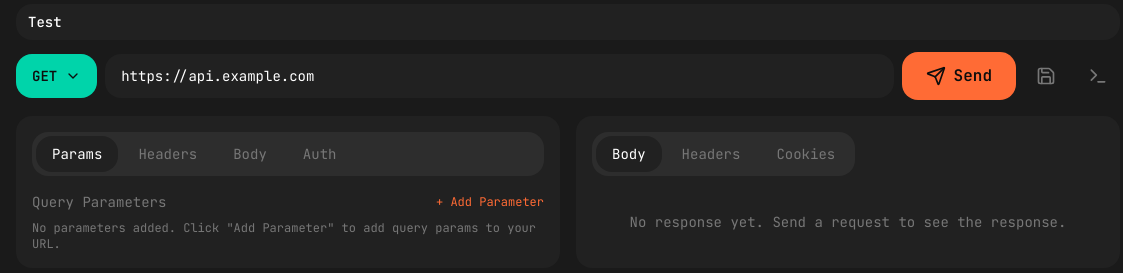
Test: RequestBuilder › can add query parameters
The width and height of the screenshot is (1123, 273).
// Click the first params button (request tab)
Click the button "params": [77, 154] box [36,136,118,172]
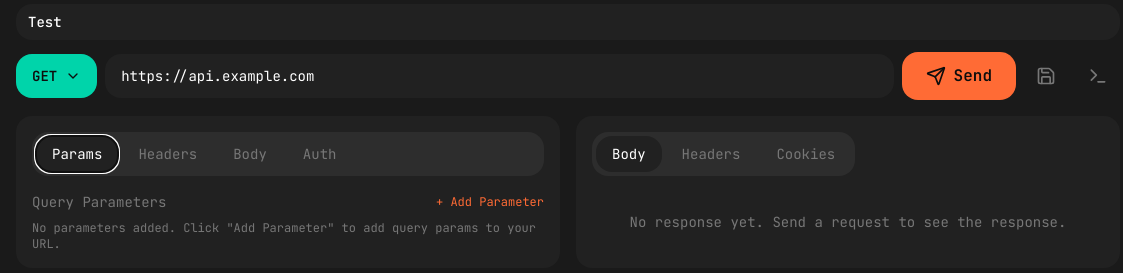
// Click add parameter button
Click the button "+ Add Parameter": [490, 202] box [436,194,544,210]
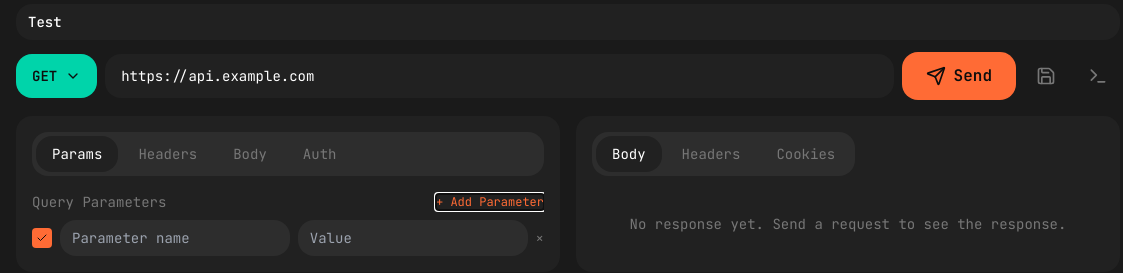
expect the field with placeholder "Parameter name" is shown: met, box [60,220,290,256]
expect the field with placeholder "Value" is shown: met, box [298,220,528,256]
